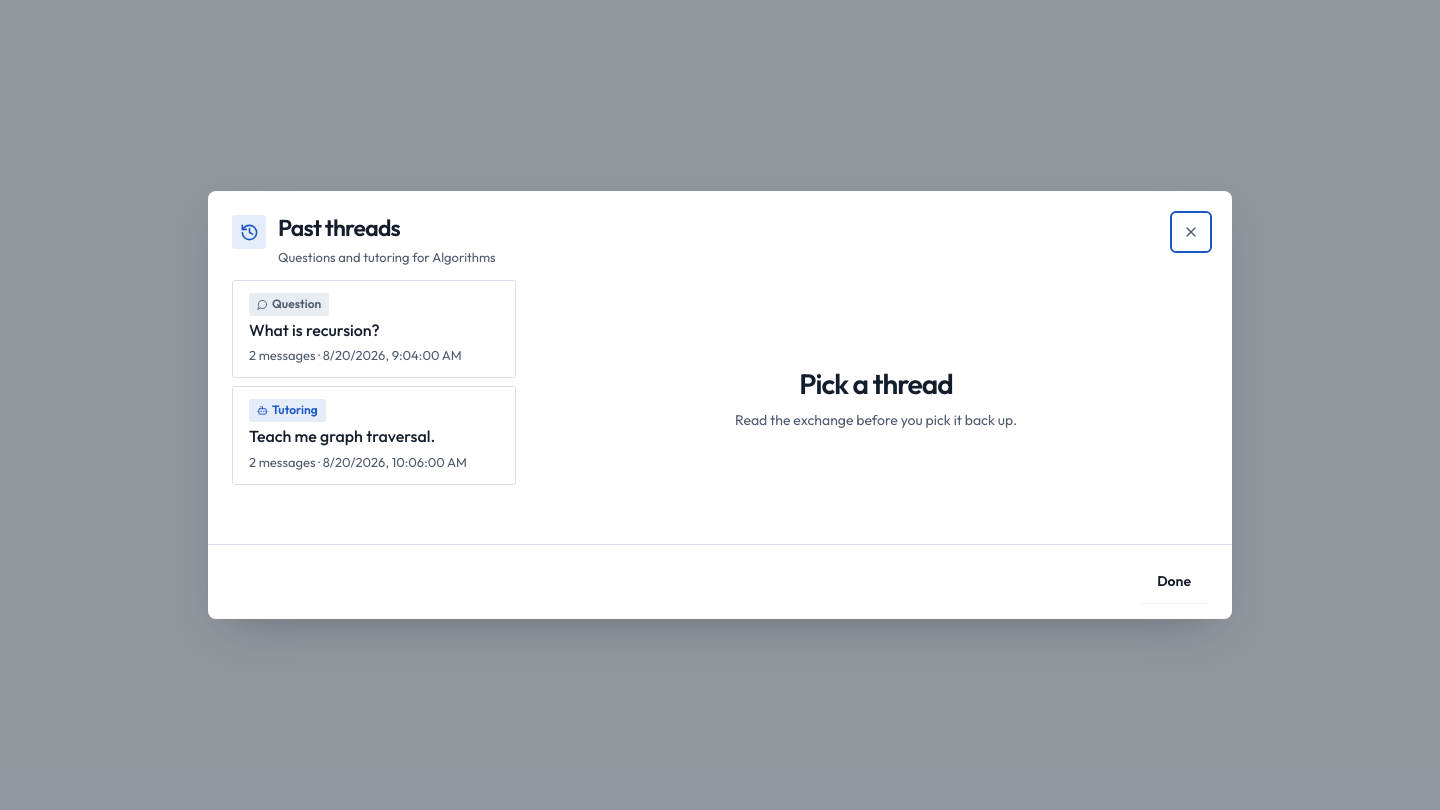
Test: ConversationHistoryModal › does not offer resume for a read-only course
Click the button with aria-label "Tutoring 18": (374, 436) top-left (232, 386), bottom-right (516, 485)
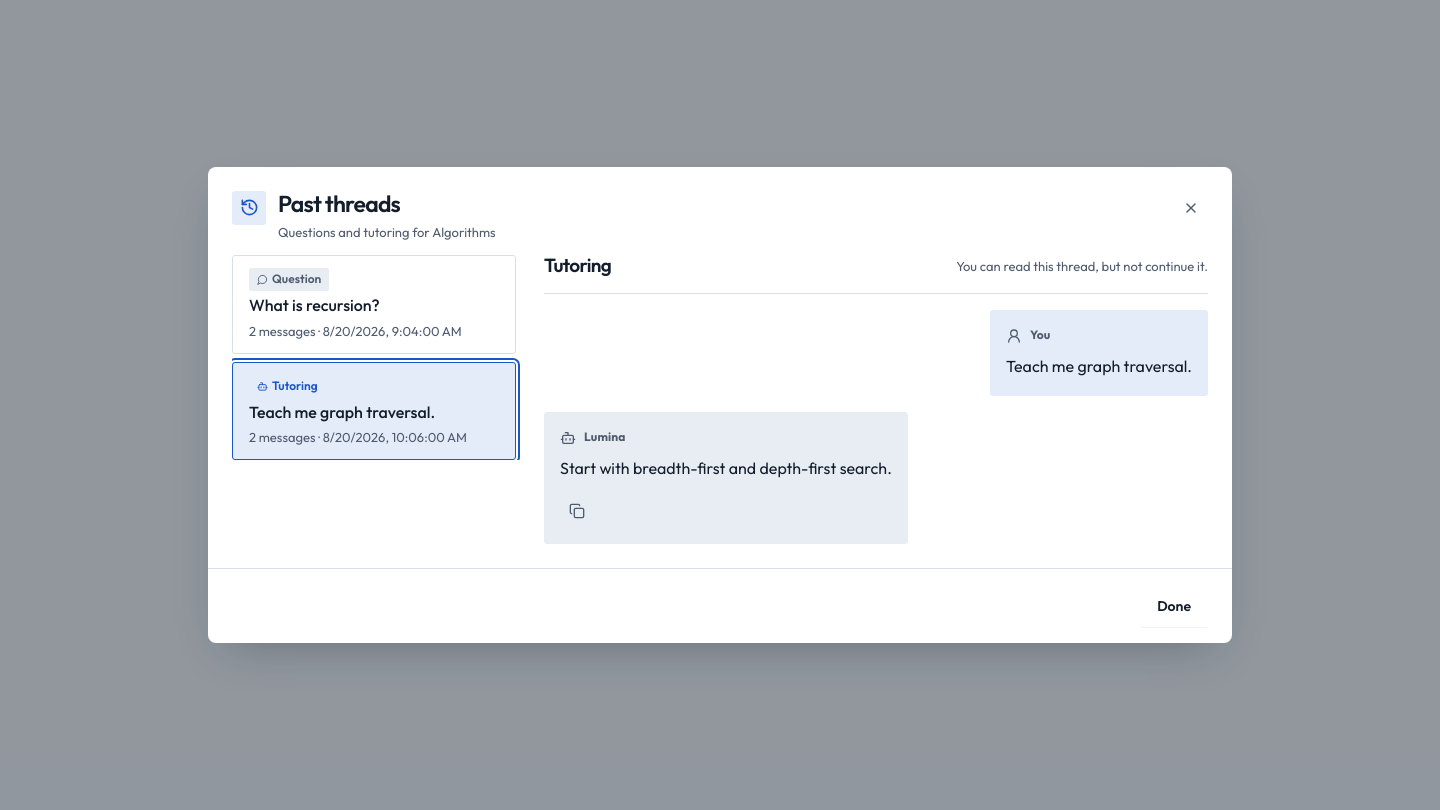
Now the text "You can read this thread, but not continue it." is shown, box top-left (956, 256), bottom-right (1208, 276)
